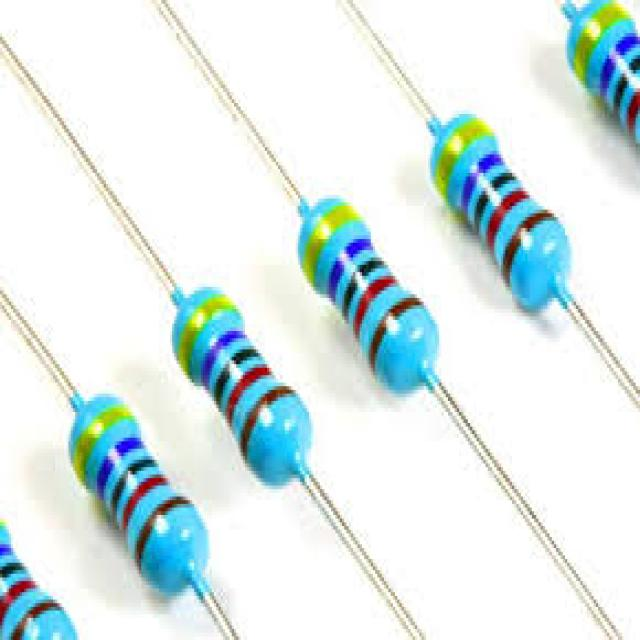Resistor: (68, 394, 207, 592), (430, 114, 569, 309), (172, 287, 311, 482), (298, 199, 437, 390), (563, 0, 638, 140), (0, 522, 75, 636)
black: (111, 460, 158, 529), (215, 350, 264, 415), (340, 258, 386, 327), (475, 166, 518, 235)
blue: (199, 324, 244, 397), (95, 438, 139, 507), (329, 240, 375, 305), (464, 155, 503, 220)
brown: (371, 295, 428, 382), (135, 493, 191, 573), (501, 206, 553, 286), (239, 387, 293, 463), (486, 170, 520, 205)
gold: (179, 295, 244, 382), (435, 126, 492, 209), (305, 203, 364, 283), (574, 4, 628, 88), (76, 405, 132, 478)
red: (351, 273, 397, 345), (226, 368, 275, 434), (488, 188, 527, 268), (122, 475, 169, 540)
